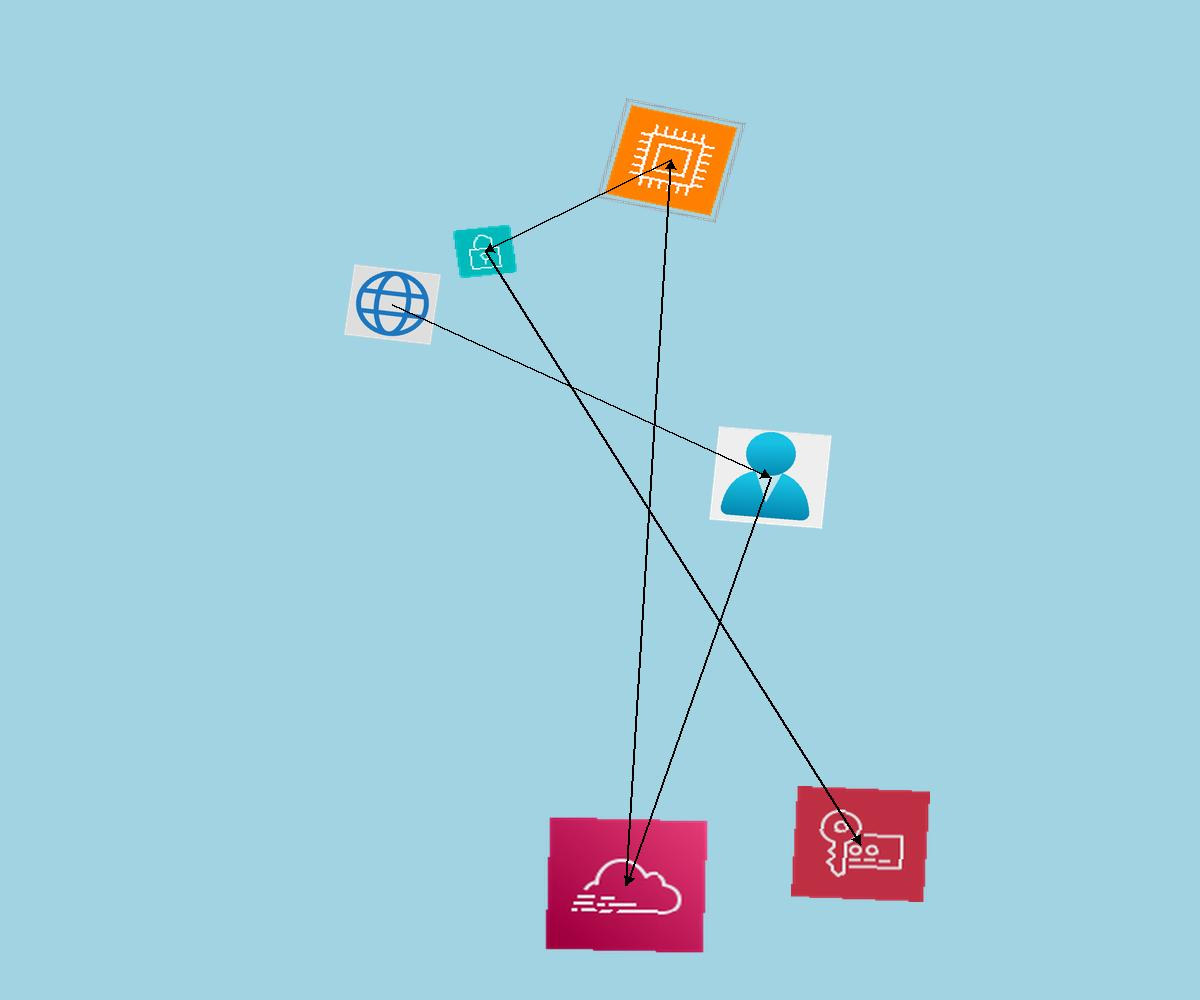AWS-Category_Compute: (596, 98, 746, 223)
AWS-CloudTrail: (544, 816, 709, 954)
AWS-Key-Management-Service: (791, 786, 930, 902)
AWS-Private-subnet: (452, 224, 518, 279)
Azure_http: (344, 264, 441, 345)
Azure_users: (709, 426, 832, 529)
